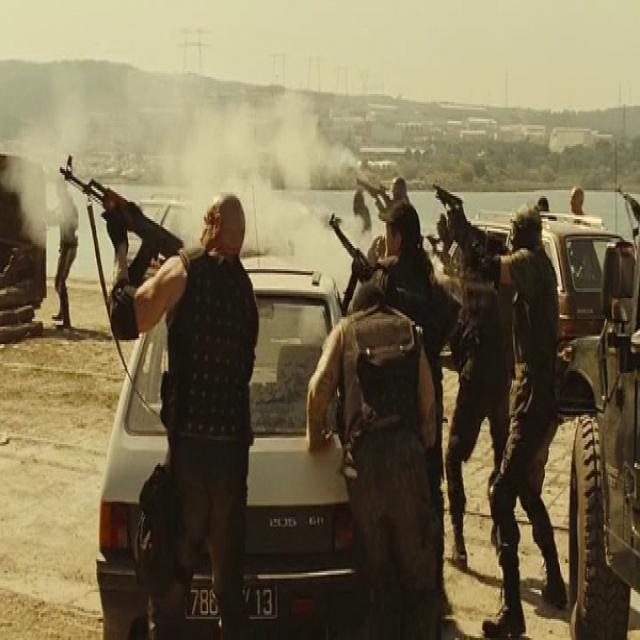rifle: (58, 149, 185, 270), (327, 210, 374, 308)
